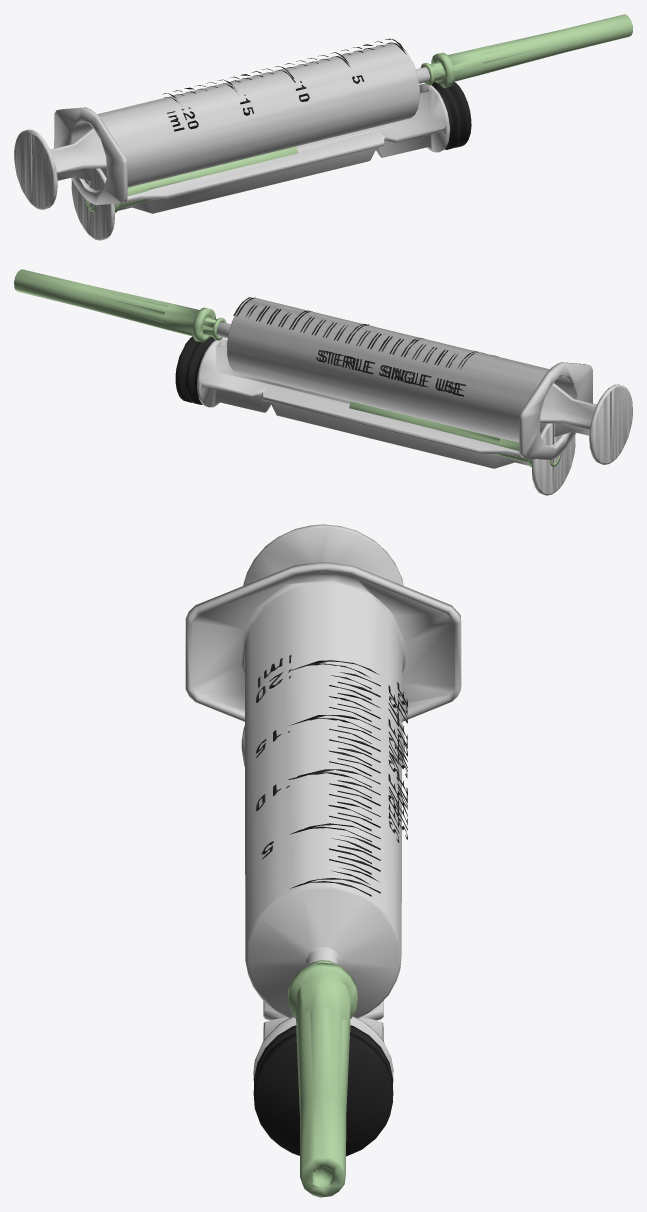
File: syringe_a01.glb
3 views of the same model, one above another, from view 1: azimuth 30°, elevation 25°; view 2: azimuth 150°, elevation 25°; view 3: azimuth 270°, elevation 25° (orthographic). The views are drawn at different scales.
Visible parts, largest first — view 1: barrel_01_mesh_00, plunger_01_mesh_00 (×2), cap_01_mesh_00 (×2), part_02_mesh_00, barrelDecal_01_mesh_00 (×2), part_01_mesh_00; view 2: barrel_01_mesh_00, plunger_01_mesh_00 (×2), cap_01_mesh_00 (×2), barrelDecal_01_mesh_00 (×2), part_02_mesh_00, part_01_mesh_00; view 3: barrel_01_mesh_00, cap_01_mesh_00, part_02_mesh_00, plunger_01_mesh_00 (×2), barrelDecal_01_mesh_00 (×2).
Part boxes in pixels (x1,y1,x2,y2): barrel_01_mesh_00: (54, 43, 429, 204); plunger_01_mesh_00 (×2): (14, 83, 449, 240); cap_01_mesh_00 (×2): (114, 14, 632, 212); part_02_mesh_00: (431, 81, 471, 149); barrelDecal_01_mesh_00 (×2): (162, 38, 406, 131); part_01_mesh_00: (420, 62, 444, 85); barrel_01_mesh_00: (217, 298, 592, 459); plunger_01_mesh_00 (×2): (197, 338, 632, 495); cap_01_mesh_00 (×2): (14, 269, 532, 467); barrelDecal_01_mesh_00 (×2): (233, 297, 496, 396); part_02_mesh_00: (175, 336, 215, 404); part_01_mesh_00: (203, 317, 226, 340); barrel_01_mesh_00: (185, 562, 461, 1018); cap_01_mesh_00: (288, 962, 357, 1197); part_02_mesh_00: (253, 1025, 393, 1156); plunger_01_mesh_00 (×2): (241, 524, 405, 1083); barrelDecal_01_mesh_00 (×2): (255, 655, 407, 896).
Bounding box in the file's own units: 0.1751 × 0.0356 × 0.0352.
Materials: 7 (3 with a texture image).
